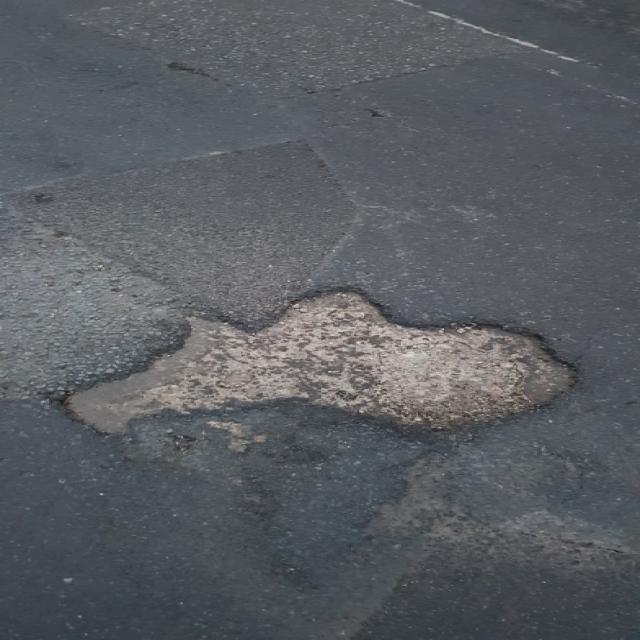pothole: (44, 285, 578, 439)
